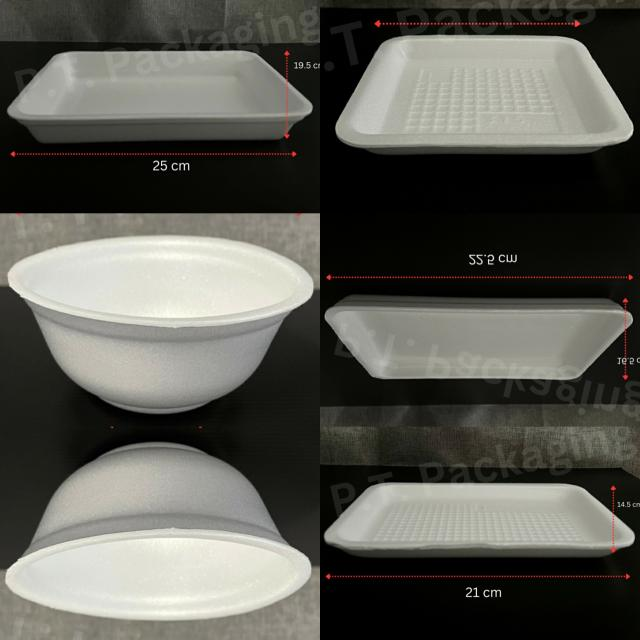Single-Use-Plastic: (6, 442, 310, 620), (9, 235, 313, 412), (335, 35, 633, 154), (8, 50, 313, 144), (325, 295, 633, 379), (324, 482, 634, 558)
